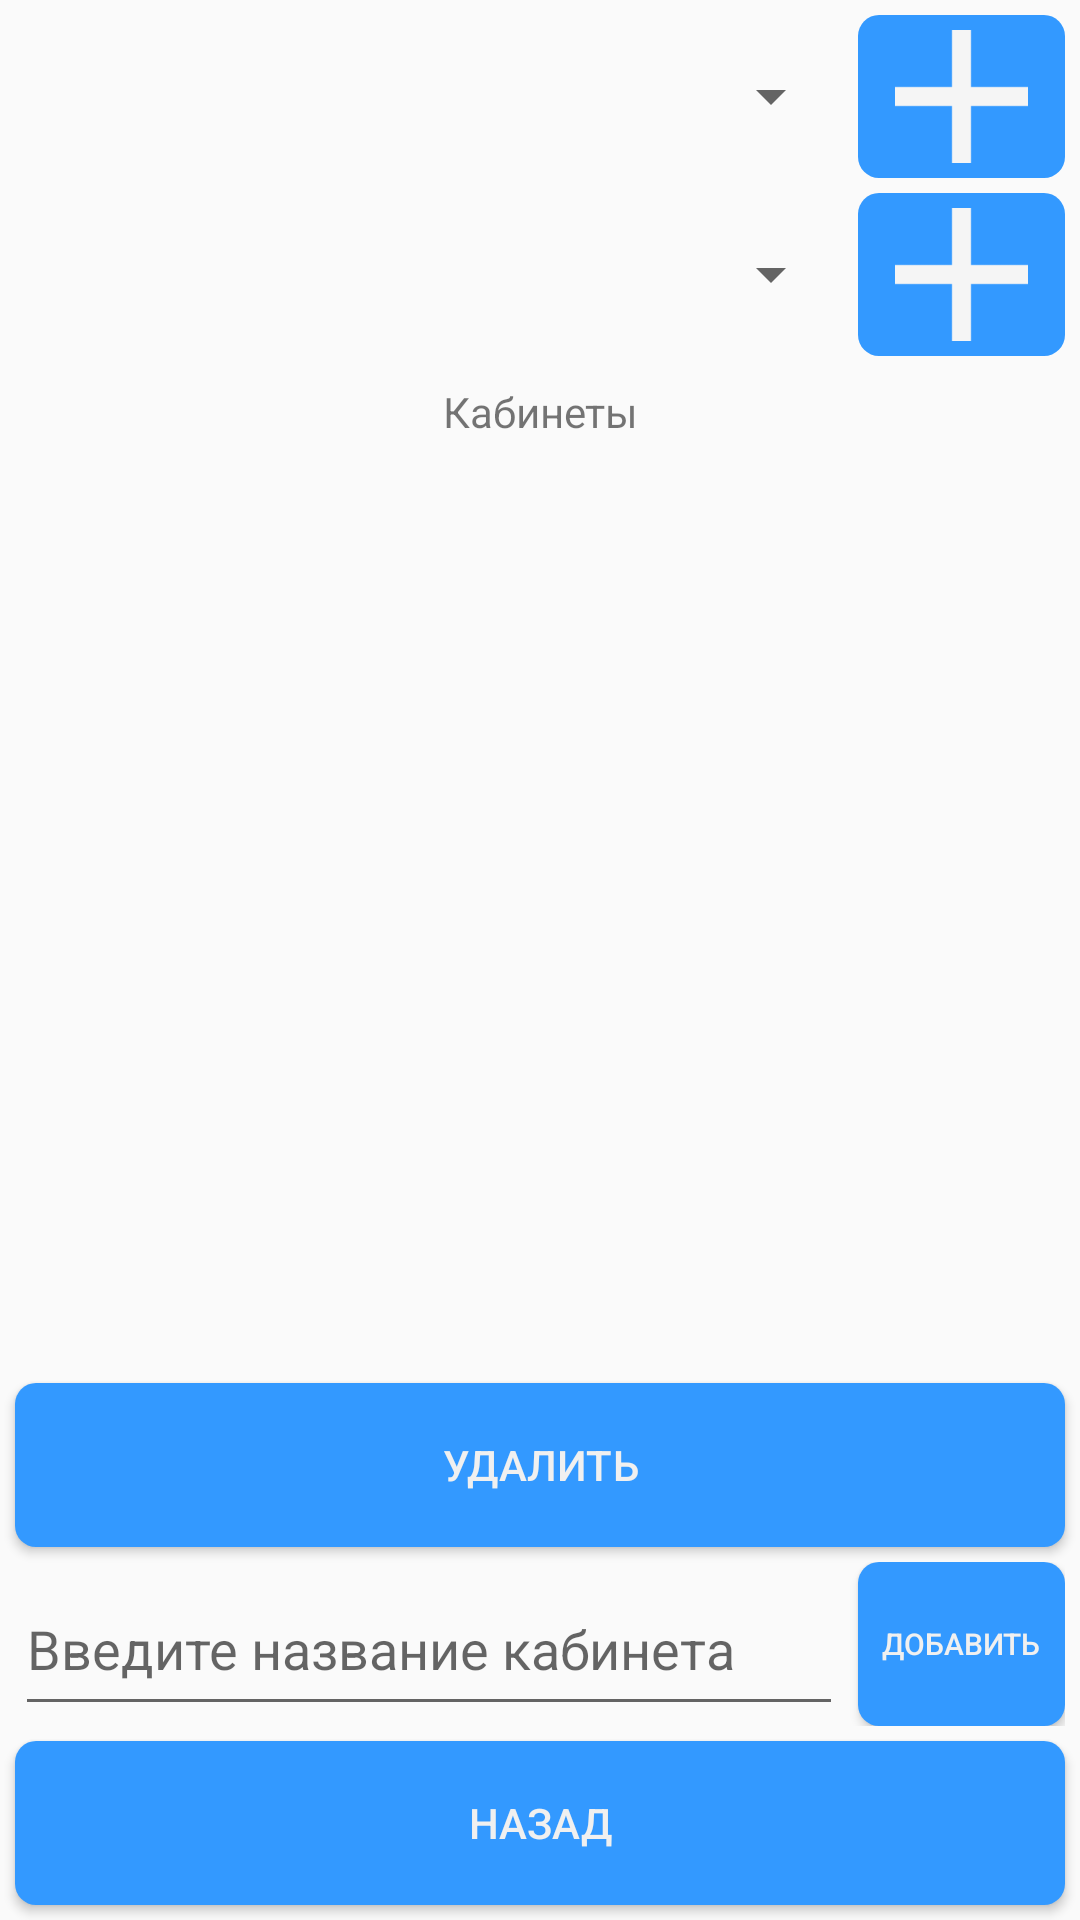

Point at icon controls on the screen. Image size 1080px x 1920px, points as [x,y].
add plus: [961,96], [961,274]
